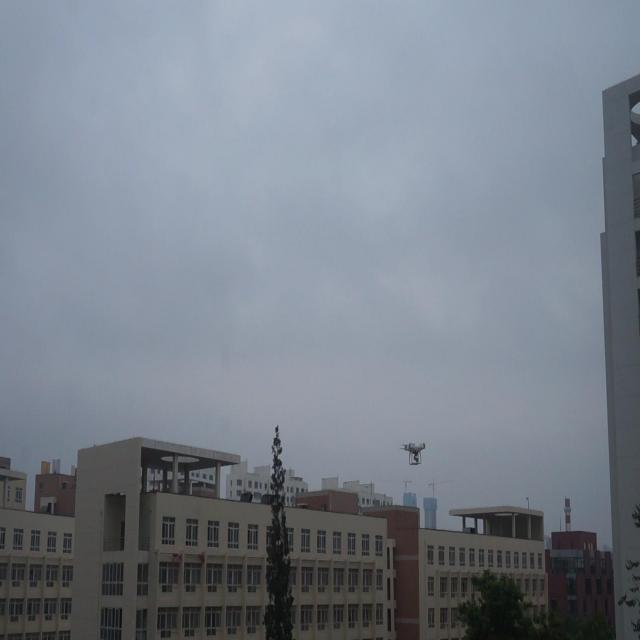UAV: (399, 442, 426, 465)
